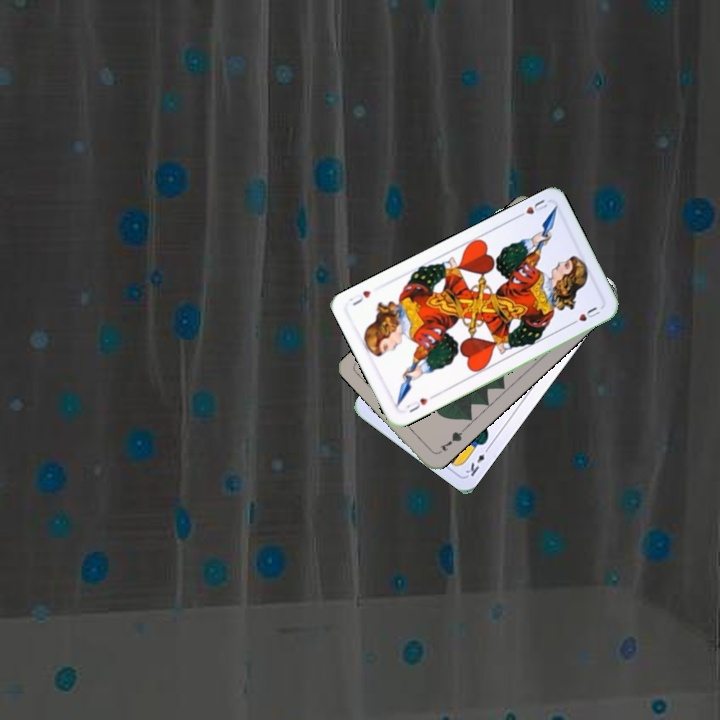EK: (461, 442, 493, 479)
G7: (434, 425, 467, 456)
HU: (512, 195, 551, 221), (402, 394, 430, 415)
